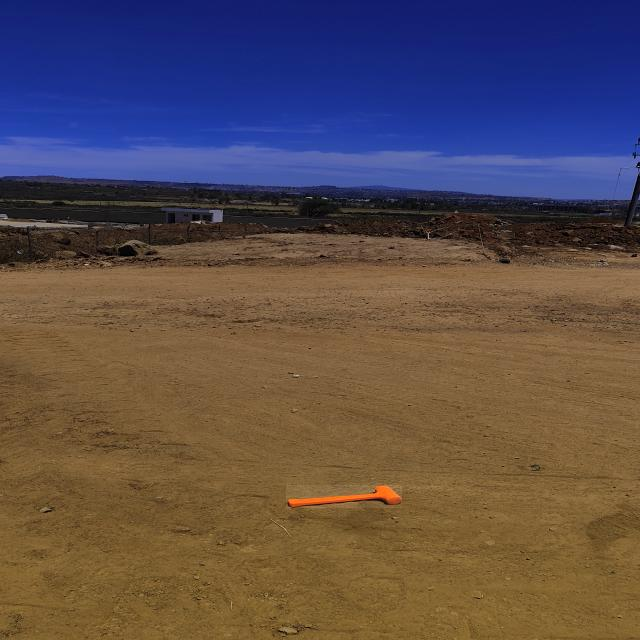Orange_hammer: (286, 485, 402, 508)
